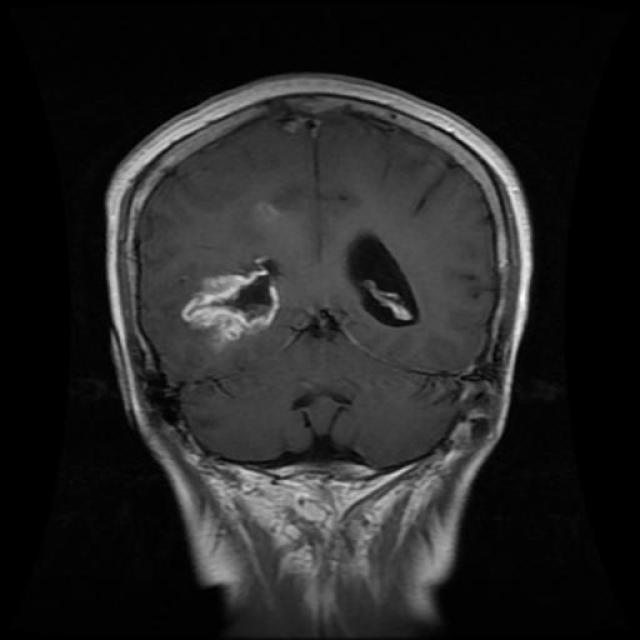glioma: (345, 230, 421, 335), (184, 267, 282, 345)
